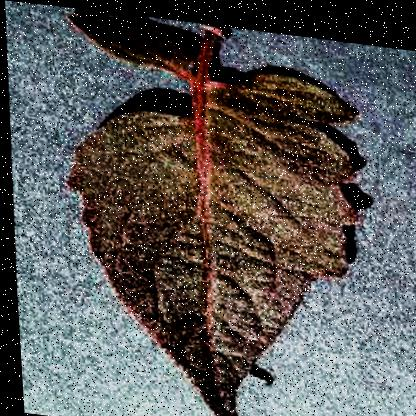Healthy: (44, 3, 391, 415)
